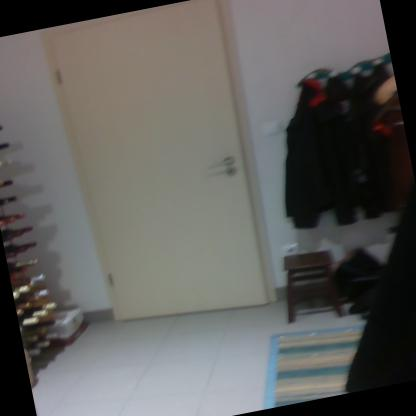closed: (32, 0, 289, 346)
